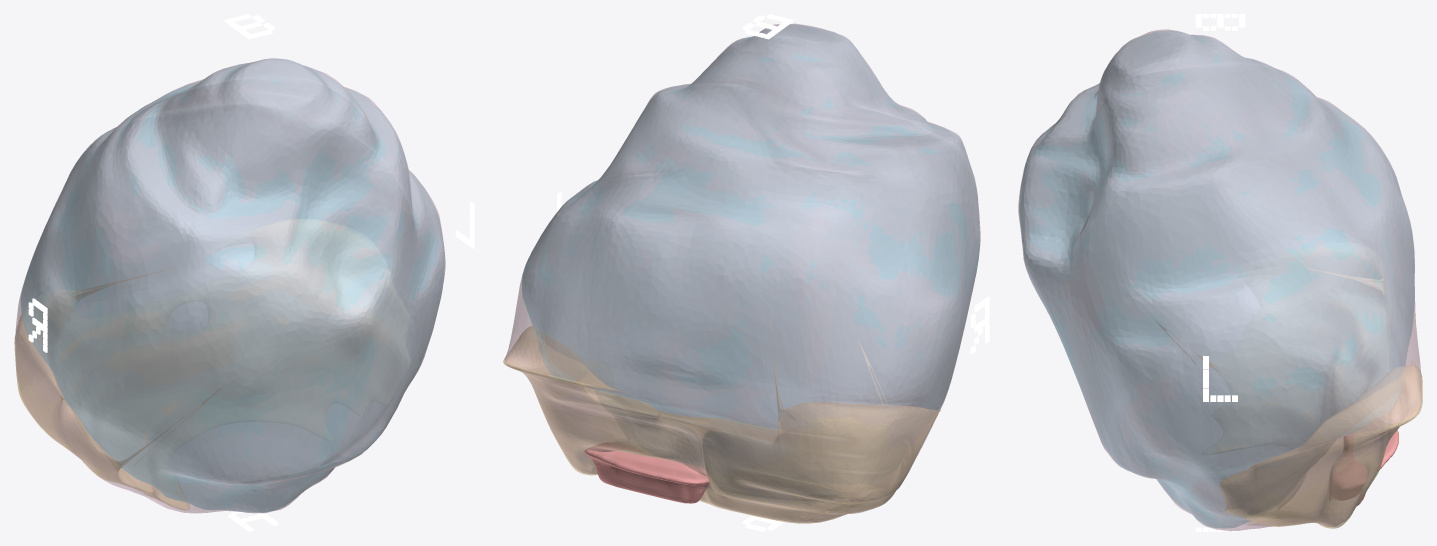
The picture shows the model from 3 angles, left to right: view 1: azimuth 30°, elevation 25°; view 2: azimuth 150°, elevation 25°; view 3: azimuth 270°, elevation 25°; orthographic projection.
Visible parts, largest first — view 1: prostate_gland, transition_zone, peripheral_zone, pv_ar_marker_B, pv_ar_marker_R; view 2: prostate_gland, transition_zone, peripheral_zone, lesion_01, pv_ar_marker_B, pv_ar_marker_R; view 3: prostate_gland, transition_zone, peripheral_zone, lesion_01, pv_ar_marker_B.
Boxes of the visible parts, x1=… form: prostate_gland: x1=15, y1=58, x2=445, y2=513; transition_zone: x1=21, y1=58, x2=444, y2=512; peripheral_zone: x1=14, y1=219, x2=297, y2=509; pv_ar_marker_B: x1=224, y1=14, x2=275, y2=39; pv_ar_marker_R: x1=28, y1=298, x2=47, y2=352; prostate_gland: x1=505, y1=23, x2=980, y2=522; transition_zone: x1=522, y1=24, x2=979, y2=473; peripheral_zone: x1=503, y1=326, x2=940, y2=523; lesion_01: x1=584, y1=443, x2=712, y2=503; pv_ar_marker_B: x1=742, y1=14, x2=793, y2=39; pv_ar_marker_R: x1=970, y1=296, x2=989, y2=353; prostate_gland: x1=1018, y1=29, x2=1421, y2=531; transition_zone: x1=1019, y1=30, x2=1414, y2=528; peripheral_zone: x1=1156, y1=267, x2=1422, y2=528; lesion_01: x1=1329, y1=430, x2=1398, y2=506; pv_ar_marker_B: x1=1195, y1=14, x2=1245, y2=30.
Bounding box in the file's own units: 0.0707 × 0.078 × 0.0568.
